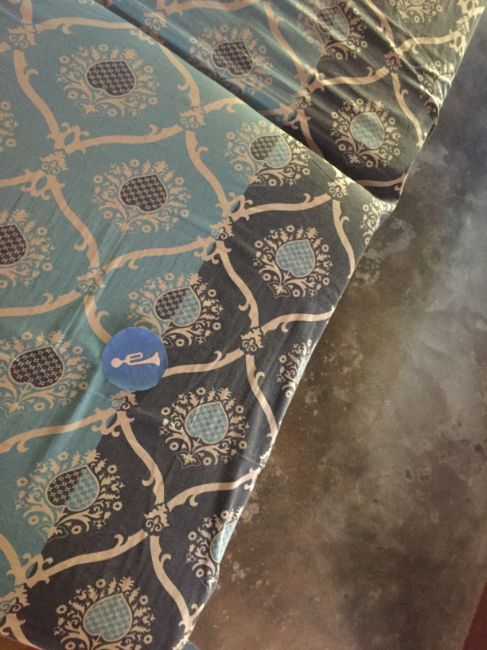blow-horn: (104, 329, 163, 388)
